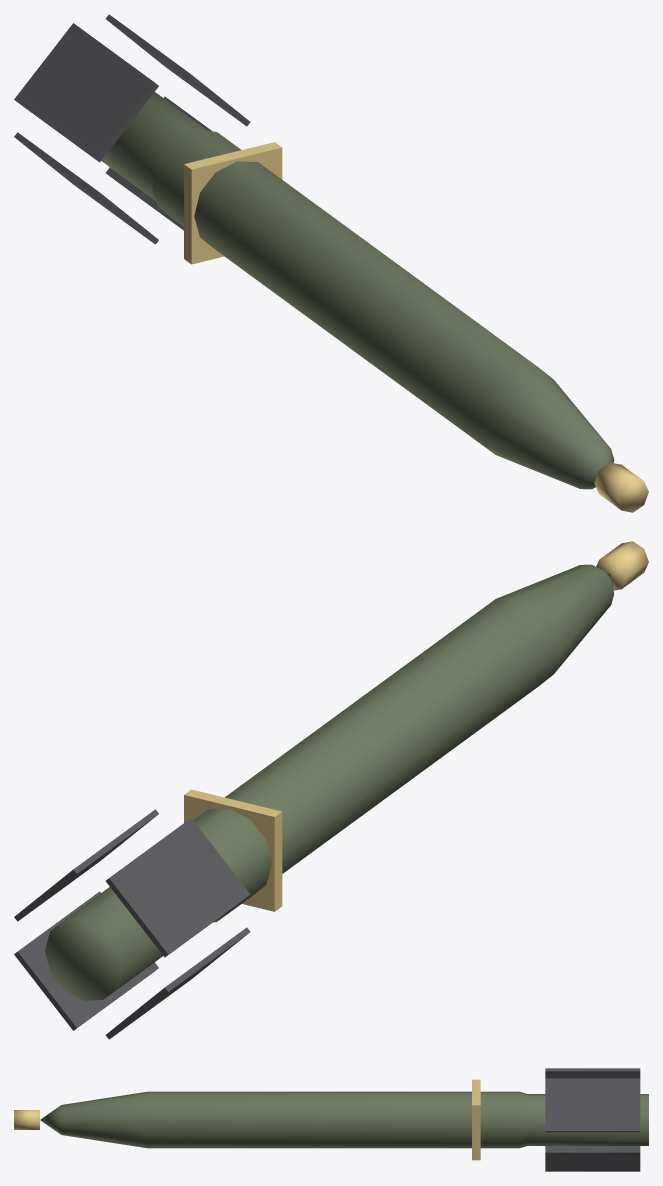
Rendered from rocket_m13.glb.
3 renders of one model, top to bottom at view 1: azimuth 30°, elevation 25°; view 2: azimuth 150°, elevation 25°; view 3: azimuth 270°, elevation 25°, orthographic. The views are drawn at different scales.
Parts seen in each view (by area): view 1: rocket_load_geo; view 2: rocket_load_geo; view 3: rocket_load_geo.
Boxes of the visible parts, left/top/right/bottom form: rocket_load_geo: left=14, top=14, right=648, bottom=512; rocket_load_geo: left=14, top=541, right=648, bottom=1039; rocket_load_geo: left=14, top=1068, right=648, bottom=1171.
Bounding box in the file's own units: 0.2388 × 0.2388 × 1.47.
